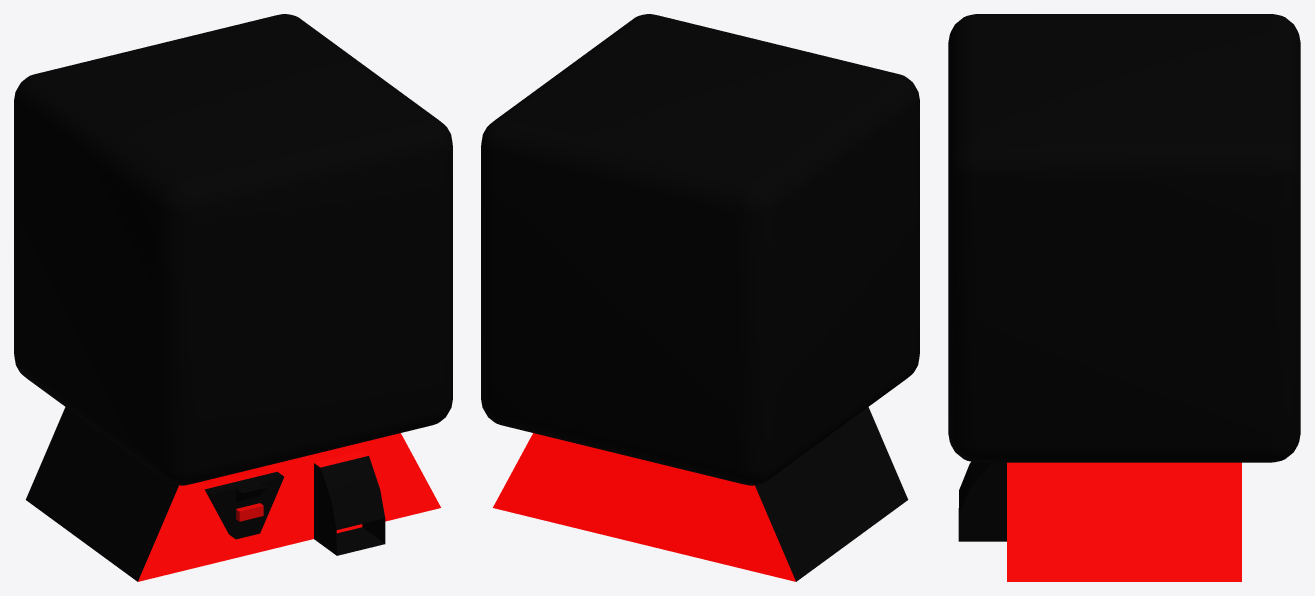
Rendered from Gacha.FBX.
3 renders of one model, left to right at view 1: azimuth 30°, elevation 25°; view 2: azimuth 150°, elevation 25°; view 3: azimuth 270°, elevation 25°, orthographic. The views are drawn at different scales.
Parts seen in each view (by area): view 1: Box001; view 2: Box001; view 3: Box001.
Boxes of the visible parts, x1,y1,x2,y2 form: Box001: [14, 14, 452, 581]; Box001: [481, 14, 919, 581]; Box001: [948, 14, 1300, 581].
Size of the model in its own units: 125 by 160 by 120.
